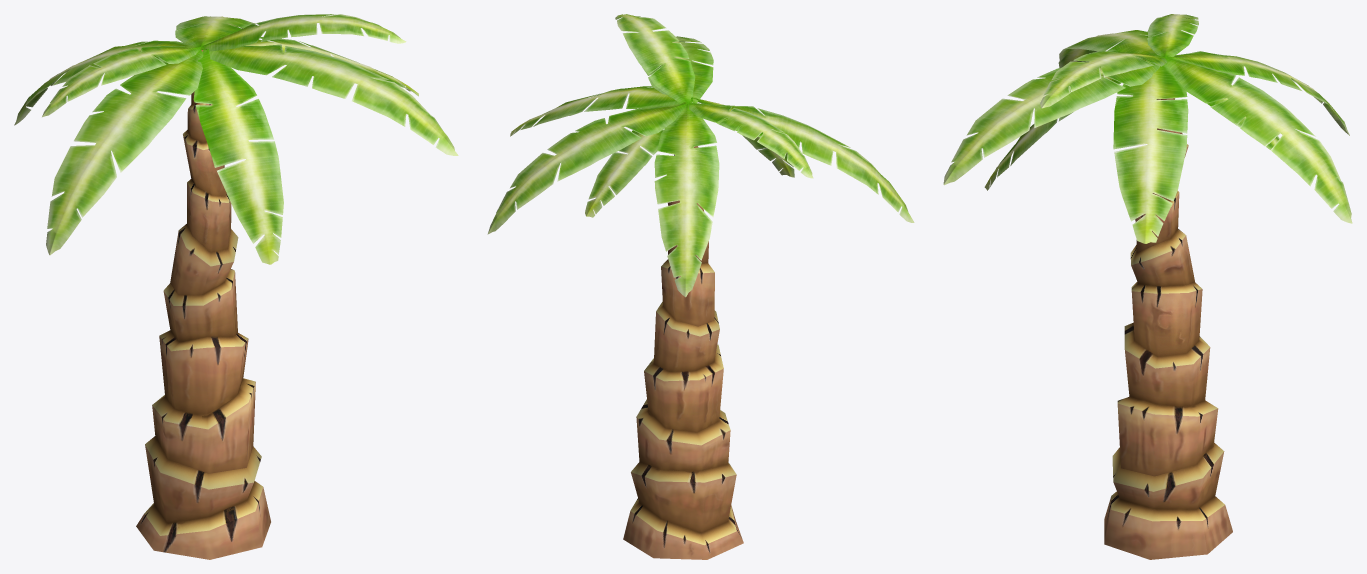
File: tree.glb
The picture shows the model from 3 angles, left to right: view 1: azimuth 30°, elevation 25°; view 2: azimuth 150°, elevation 25°; view 3: azimuth 270°, elevation 25°; orthographic projection. The views are drawn at different scales.
Visible parts, largest first — view 1: Palm.005; view 2: Palm.005; view 3: Palm.005.
Part boxes in pixels (x1,y1,x2,y2): Palm.005: (14, 14, 458, 559); Palm.005: (487, 14, 914, 559); Palm.005: (943, 14, 1352, 559).
Size of the model in its own units: 210 by 254 by 186.
1 material, 1 textured.
